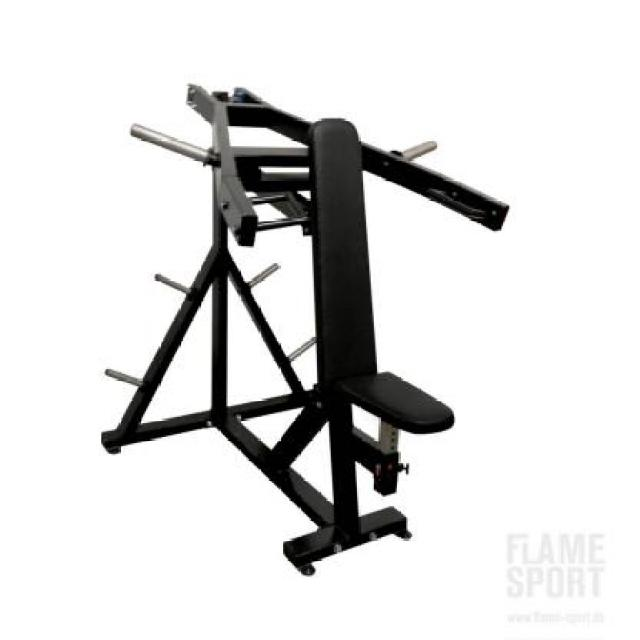shoulder press machine: (85, 69, 512, 582)
